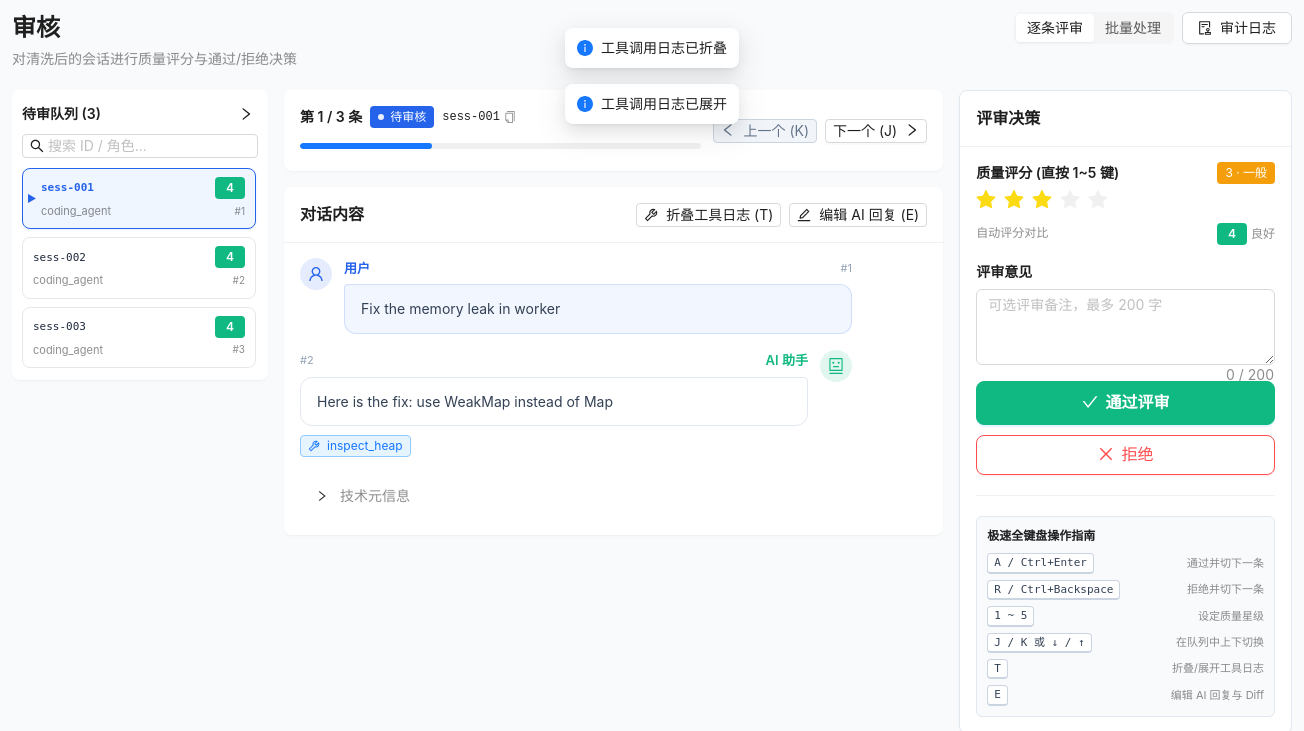
Test: Review Ergonomics & Three-Column Workspace › should support E key to enter Assistant edit mode and render Diff
Expected: the text "Fix the memory leak in worker" is shown, x1=344 y1=284 x2=852 y2=334
Expected: the text "编辑 AI 回复 (E)" is shown, x1=819 y1=204 x2=919 y2=226
# 按 'e' 进入编辑模式
Press e
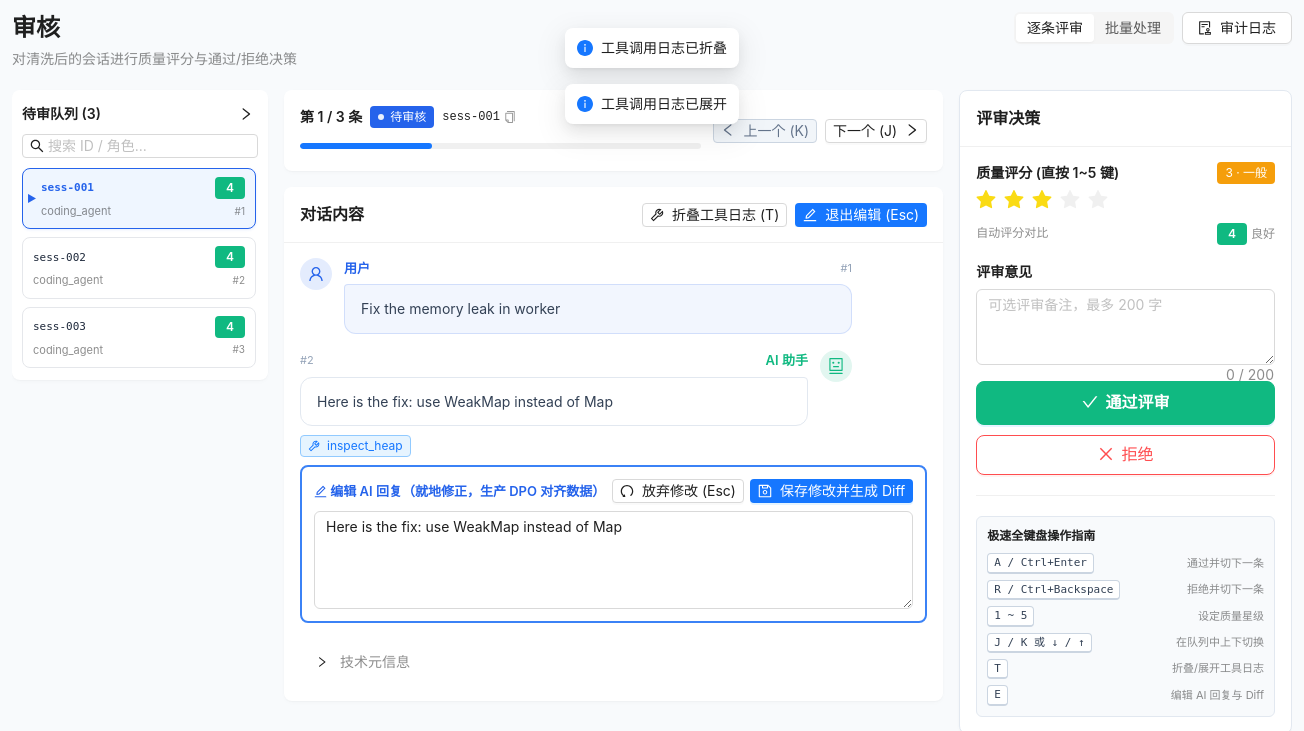
Expected: the text "编辑 AI 回复（就地修正，生产 DPO 对齐数据）" is shown, x1=314 y1=483 x2=605 y2=499
Expected: the text box with placeholder "在此编辑修正 AI 的回复..." is shown
# 编辑内容并显示 Diff 对比
Replace the text in the text box with placeholder "在此编辑修正 AI 的回复..." with "Here is the improved fix: use WeakMap instead of Map with cleanup" at (614, 560), box x1=314 y1=511 x2=913 y2=609
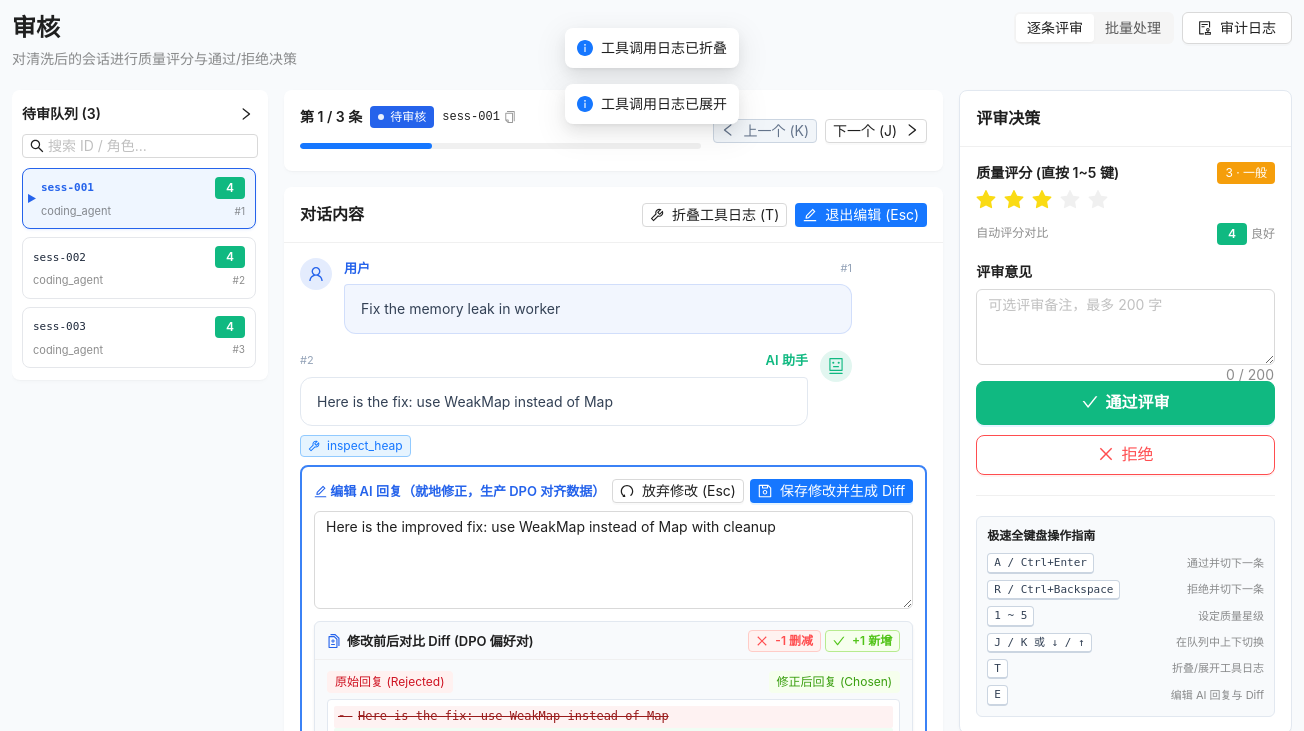
Expected: the text "修改前后对比 Diff (DPO 偏好对)" is shown, x1=347 y1=633 x2=534 y2=649
